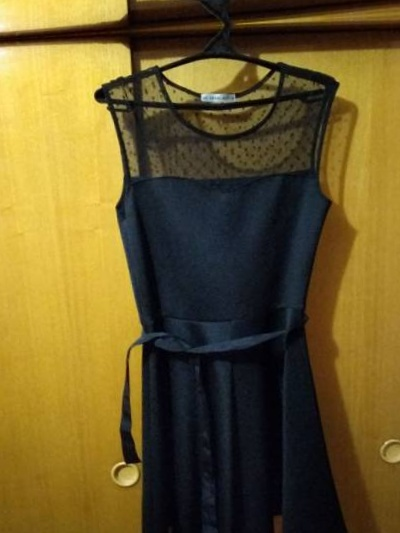Dress: (72, 44, 397, 533), (35, 0, 360, 6)
